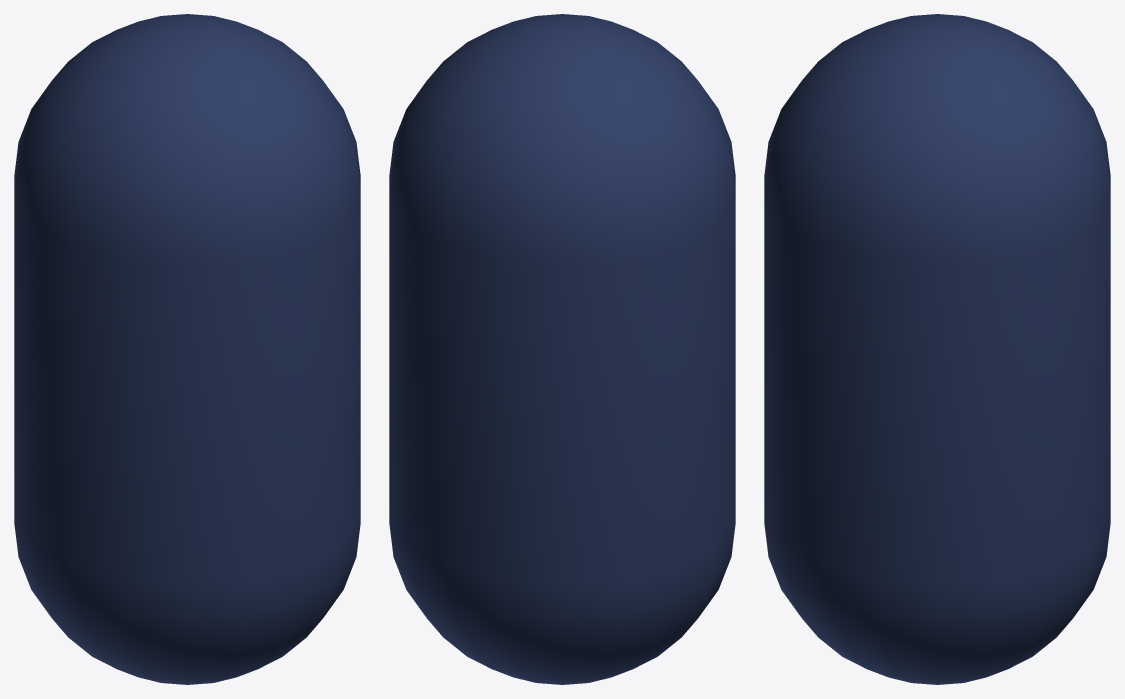
Rendered from char_thigh.glb.
3 renders of one model, left to right at view 1: azimuth 30°, elevation 25°; view 2: azimuth 150°, elevation 25°; view 3: azimuth 270°, elevation 25°, orthographic.
Parts seen in each view (by area): view 1: char_thigh; view 2: char_thigh; view 3: char_thigh.
Part boxes in pixels (left/top/right/bottom): char_thigh: left=14, top=14, right=360, bottom=684; char_thigh: left=389, top=14, right=735, bottom=684; char_thigh: left=764, top=14, right=1110, bottom=684.
Size of the model in its own units: 0.17 by 0.34 by 0.1674.
